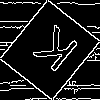K: (25, 24, 81, 81)
